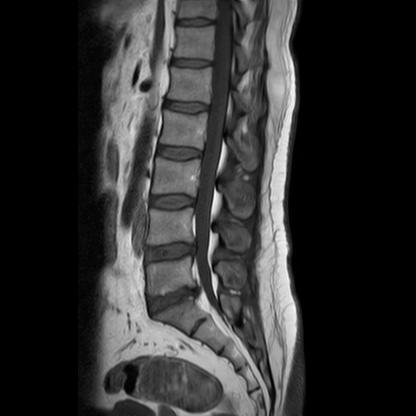Disc Bulgerotation: (142, 238, 202, 268), (142, 285, 204, 313)
